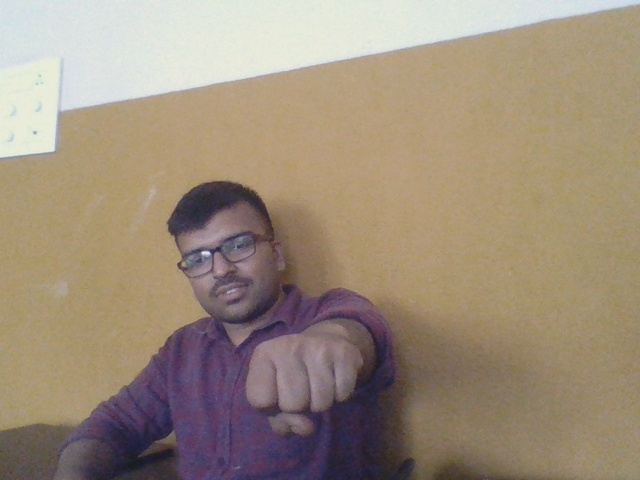Yes: (240, 329, 373, 441)
